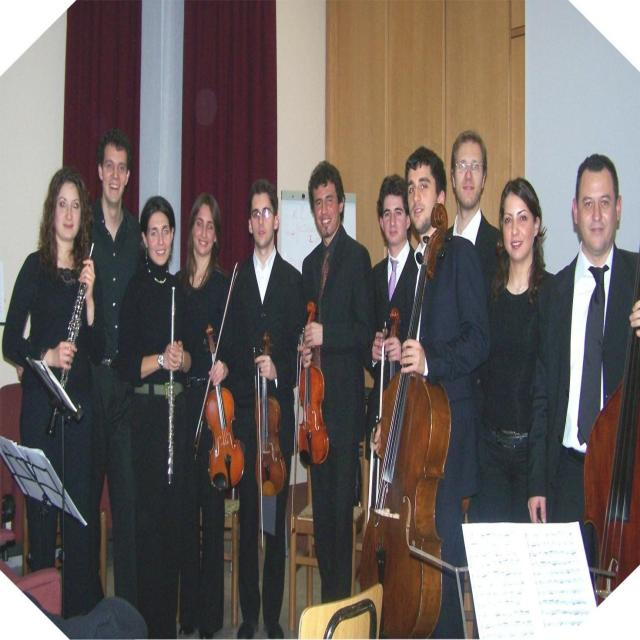cello: (362, 200, 452, 639)
clarinet: (43, 238, 94, 441)
violin: (203, 319, 247, 495), (294, 302, 332, 473), (253, 337, 290, 498)
